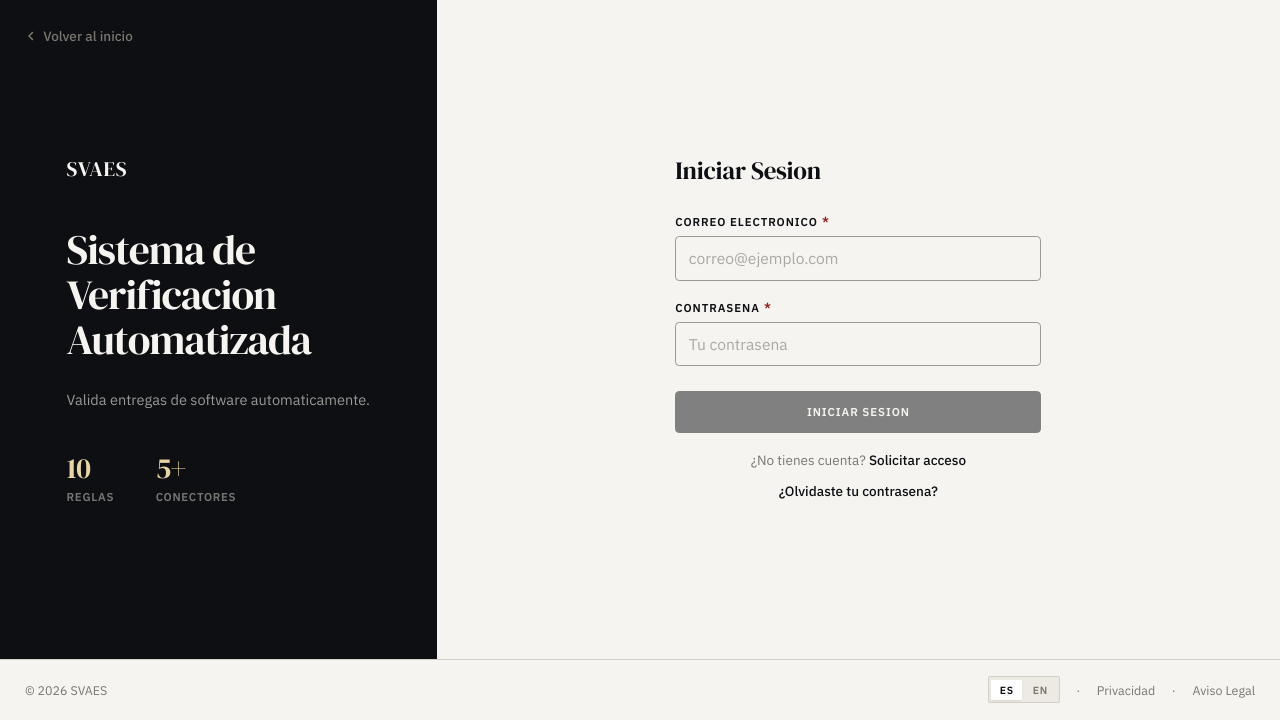
TC-ACP-CU-VAL: Validación de Login › TC-ACP-CU-05: Contrasena vacia -> mensaje de error visible (RNF-20)
This screenshot has width=1280, height=720.
Type "test@test.com" into the field with id "email" at (858, 258), box [675, 236, 1041, 280]
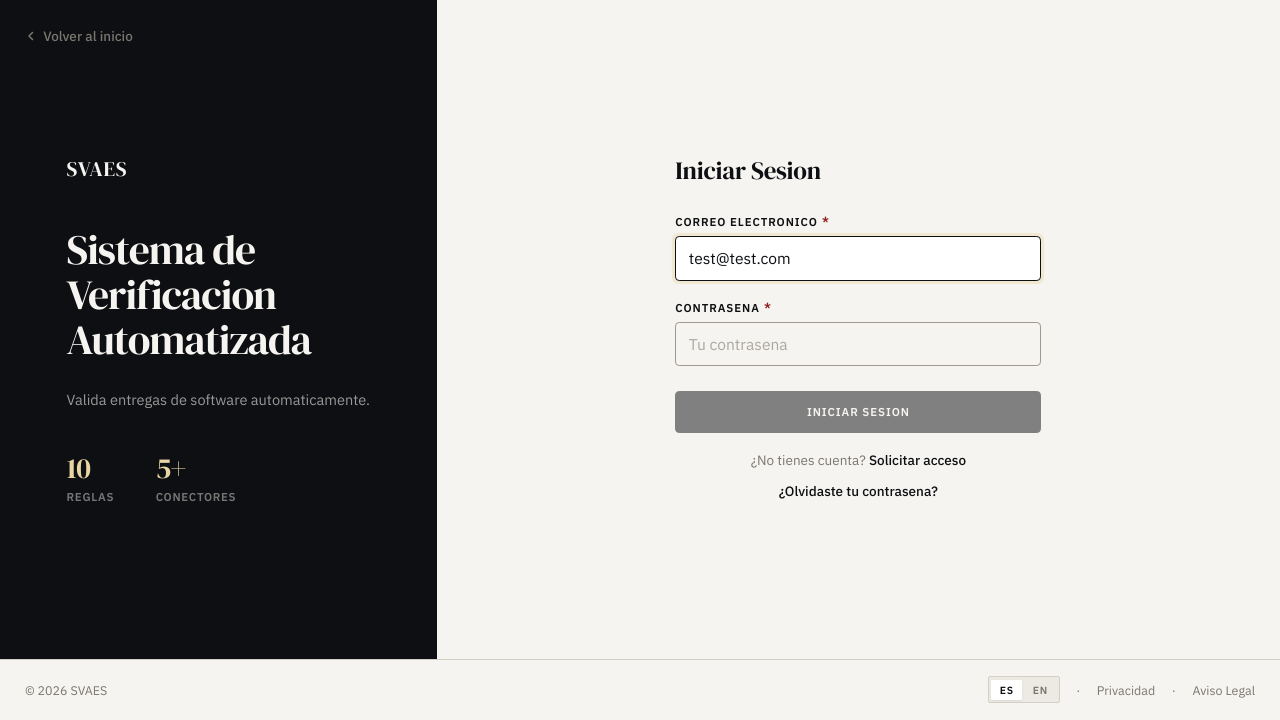
Focus the password field labelled "Contrasena*" at (858, 344), box [675, 322, 1041, 366]
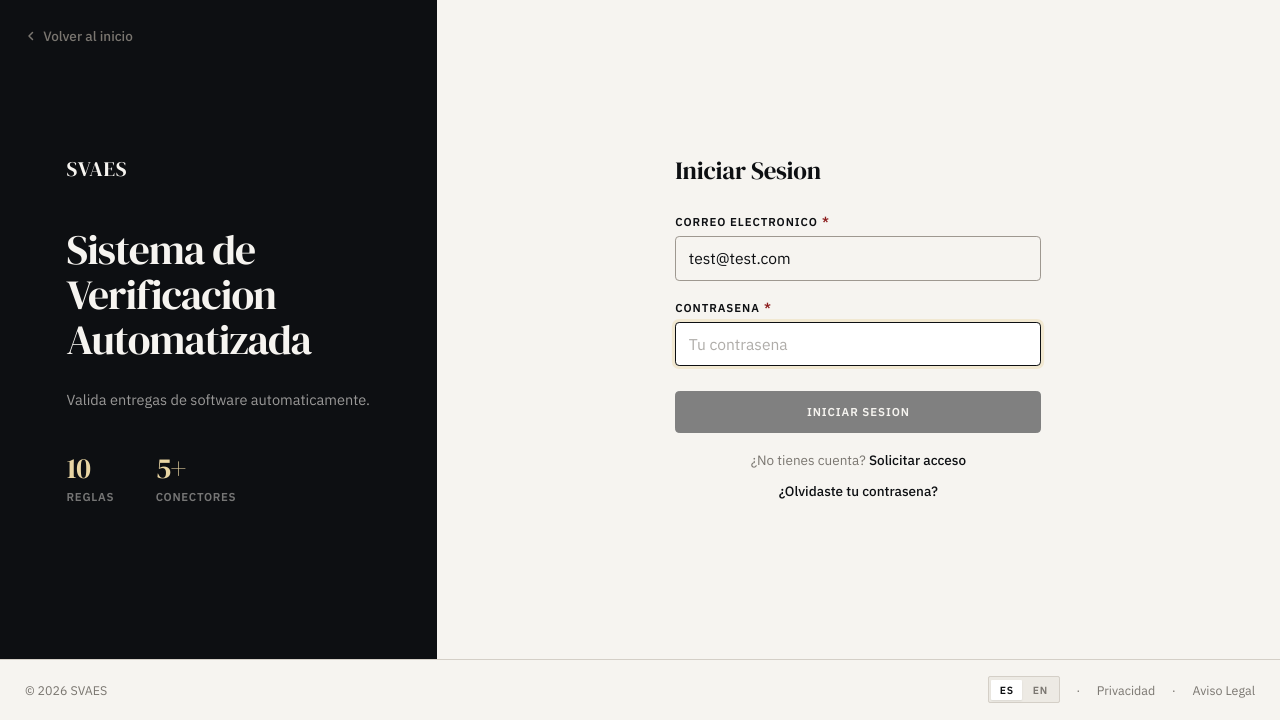
Leave the password field labelled "Contrasena*", box [675, 322, 1041, 366]
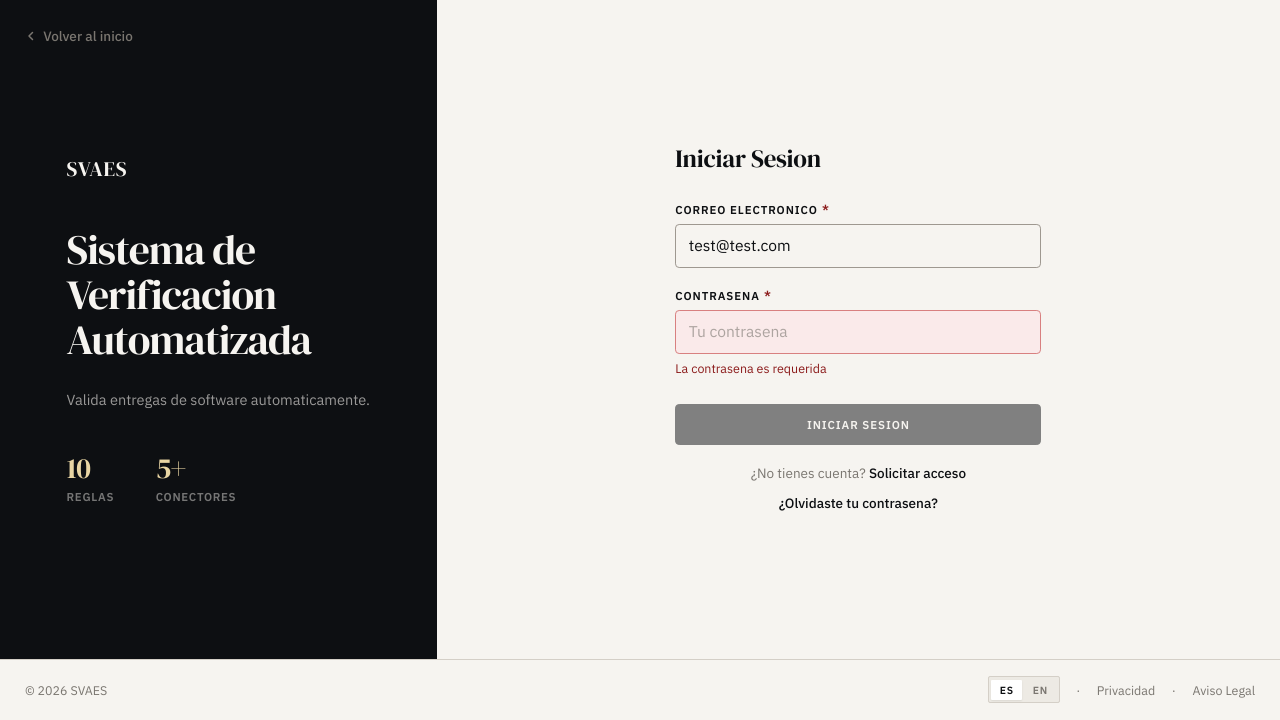
Expected: the element with class "field-error" is not empty
Now the text "La contrasena es requerida" is shown, box [675, 360, 826, 376]
